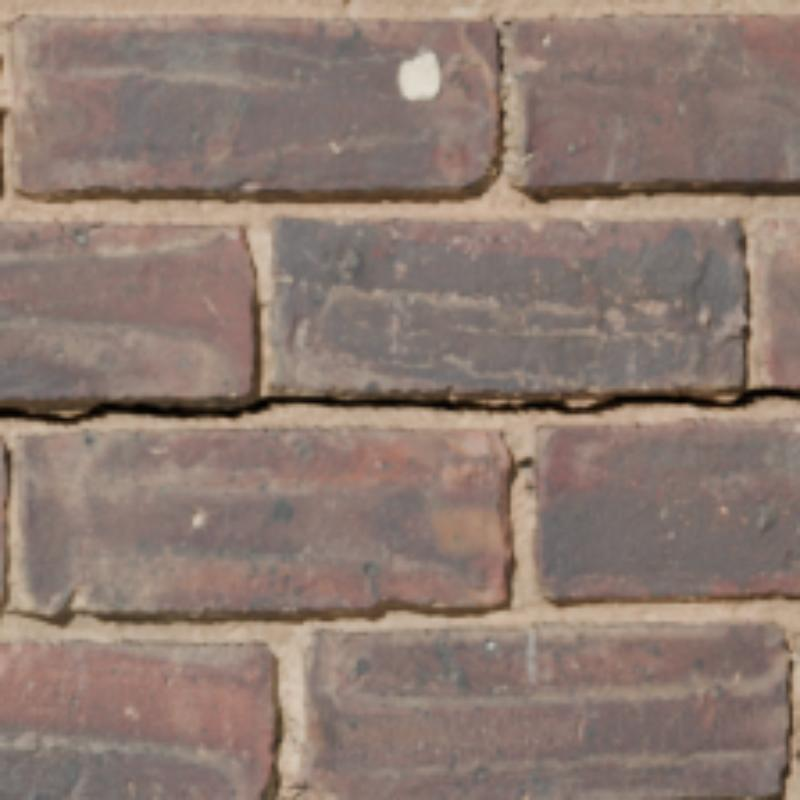pothole: (0, 389, 796, 425)
